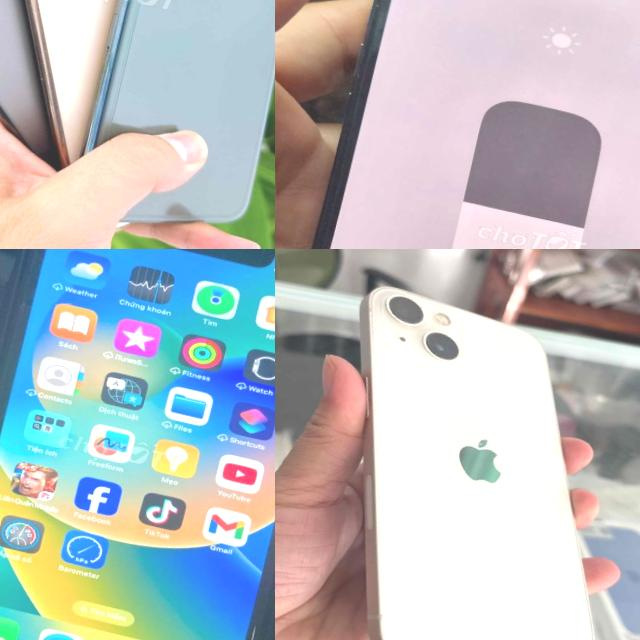gen_11: (0, 249, 275, 640), (68, 0, 275, 249)
gen_12_13: (291, 280, 640, 640), (275, 0, 640, 249)
